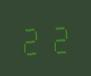two: (19, 21, 44, 56), (45, 20, 70, 54)
